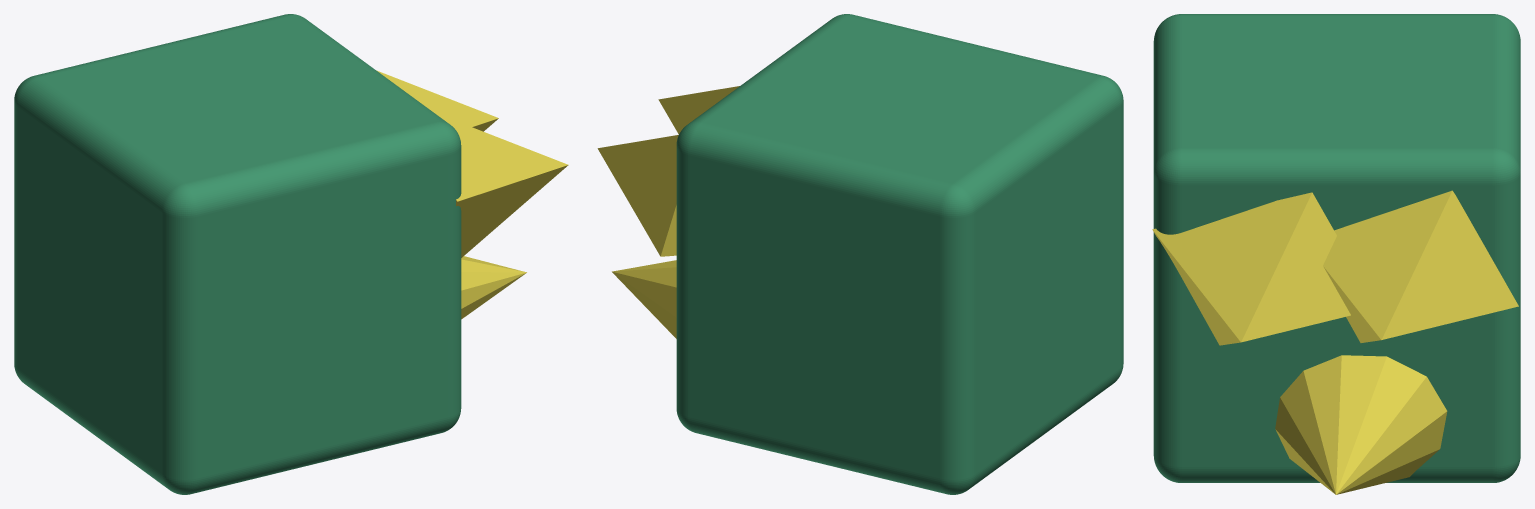
File: river.glb
3 renders of one model, left to right at view 1: azimuth 30°, elevation 25°; view 2: azimuth 150°, elevation 25°; view 3: azimuth 270°, elevation 25°, orthographic. The views are drawn at different scales.
Visible parts, largest first — view 1: Mesh_Mesh_head_geo.001_lambert2SG.001; view 2: Mesh_Mesh_head_geo.001_lambert2SG.001; view 3: Mesh_Mesh_head_geo.001_lambert2SG.001.
Boxes of the visible parts, x1,y1,x2,y2 form: Mesh_Mesh_head_geo.001_lambert2SG.001: (14, 14, 568, 494); Mesh_Mesh_head_geo.001_lambert2SG.001: (597, 14, 1123, 494); Mesh_Mesh_head_geo.001_lambert2SG.001: (1152, 14, 1520, 494).
Size of the model in its own units: 0.0618 by 0.0436 by 0.042.
